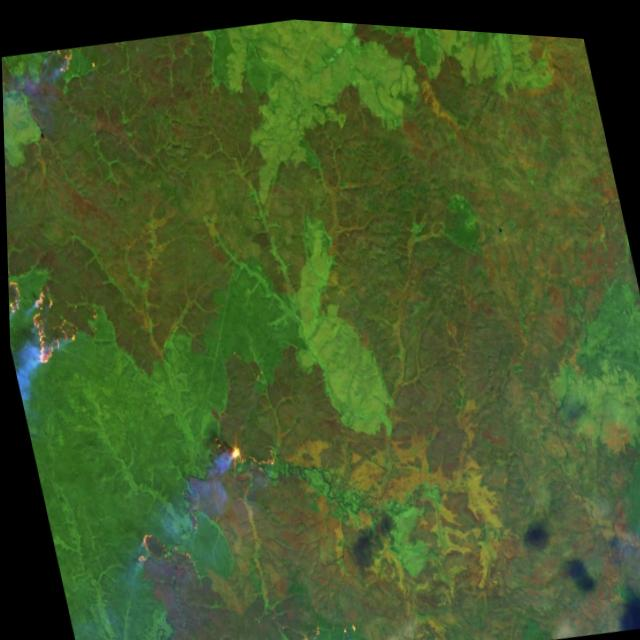fire: (100, 412, 318, 640), (6, 249, 117, 388), (1, 40, 94, 129)
